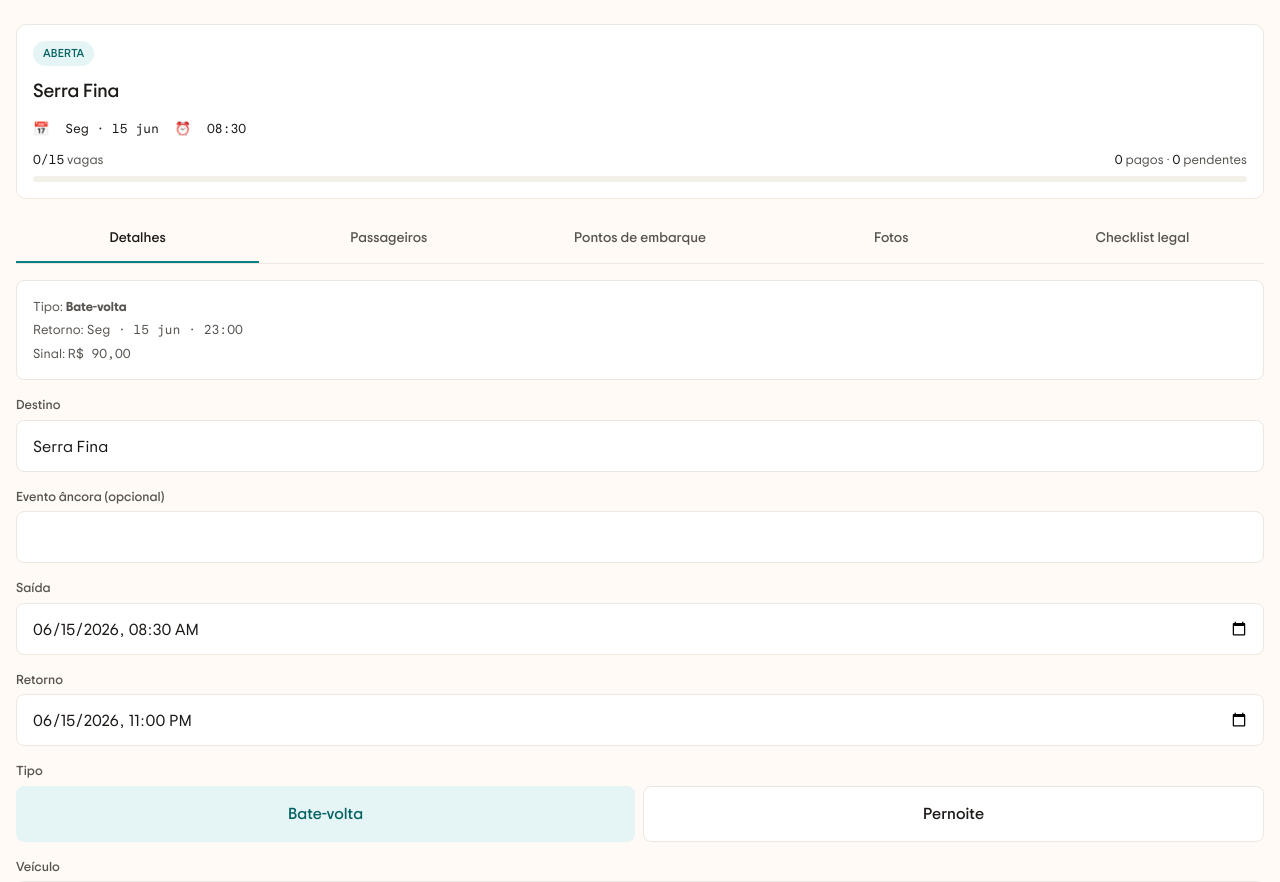
Test: ExcursaoDetalhePage › abre a aba Passageiros e carrega a view Lista da aba
Expected: the text "Serra Fina" is shown, [33, 82, 119, 101]
Click the tab "Passageiros".
click(389, 239)  # box [267, 215, 510, 263]
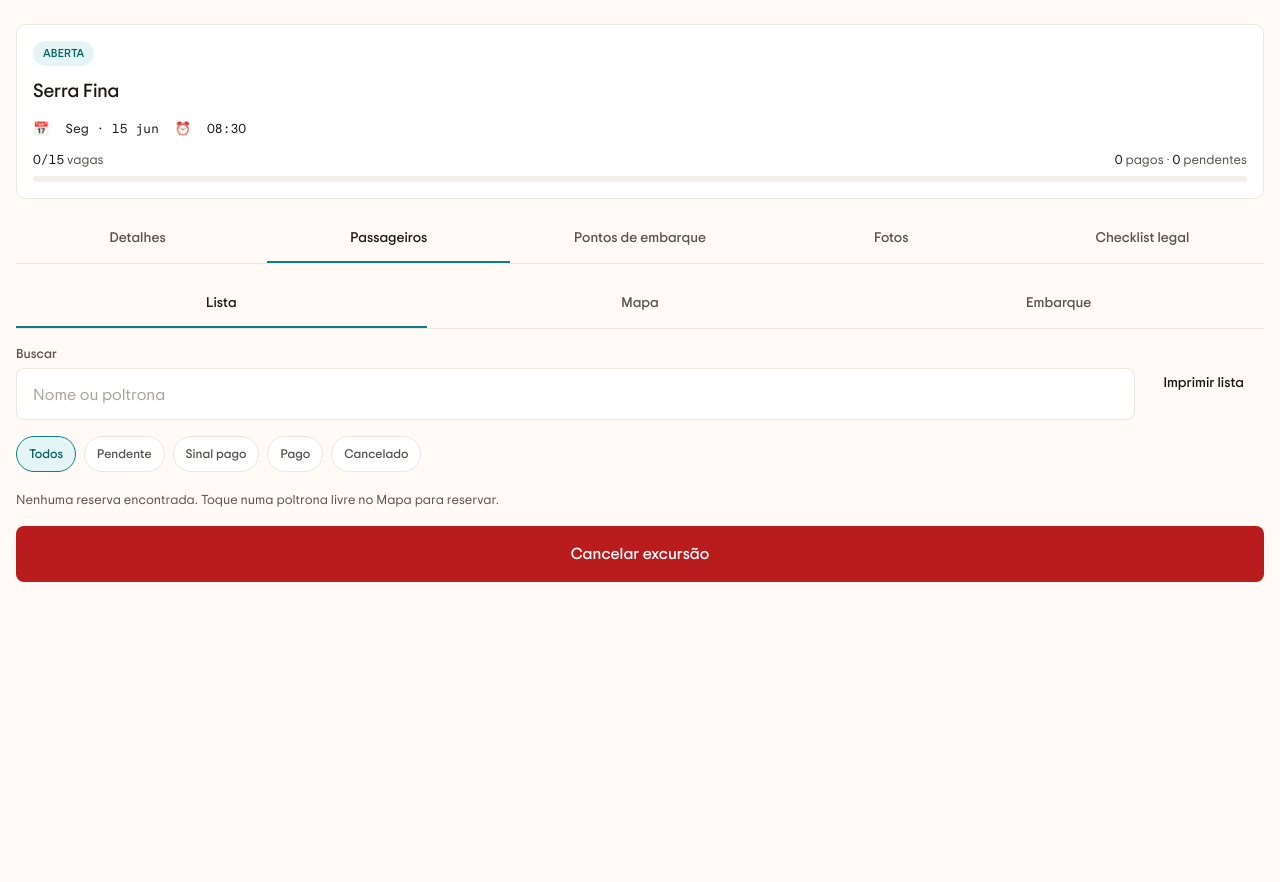
Expected: the text "Toque numa poltrona livre no Mapa" is shown, [16, 490, 499, 508]
